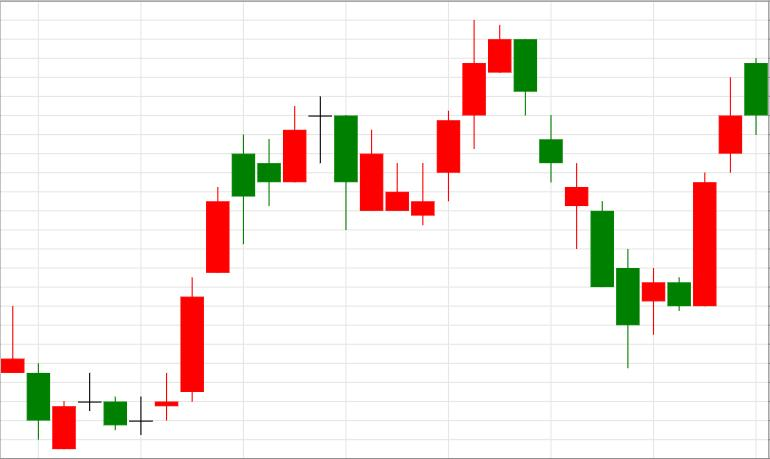evening_star_fall: (129, 97, 358, 435)
